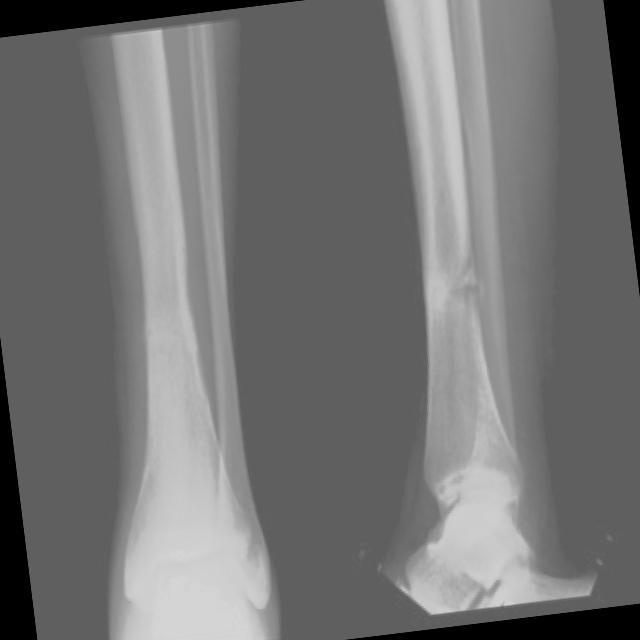HairLine Fracture: (146, 292, 196, 367), (438, 236, 480, 322)
